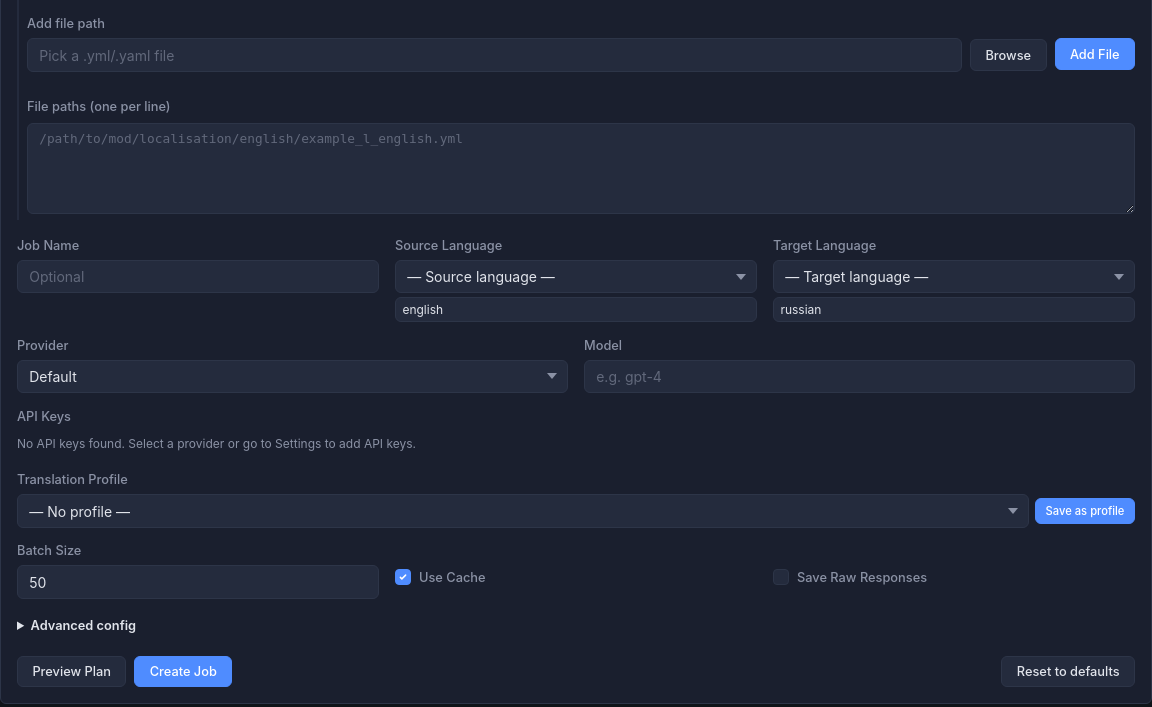
it: CreateJobForm › advanced config section › renders protection rule sets label
(page scrolled)
Click the heading "Advanced config" at (83, 626), box [30,618,136,633]
(page scrolled)
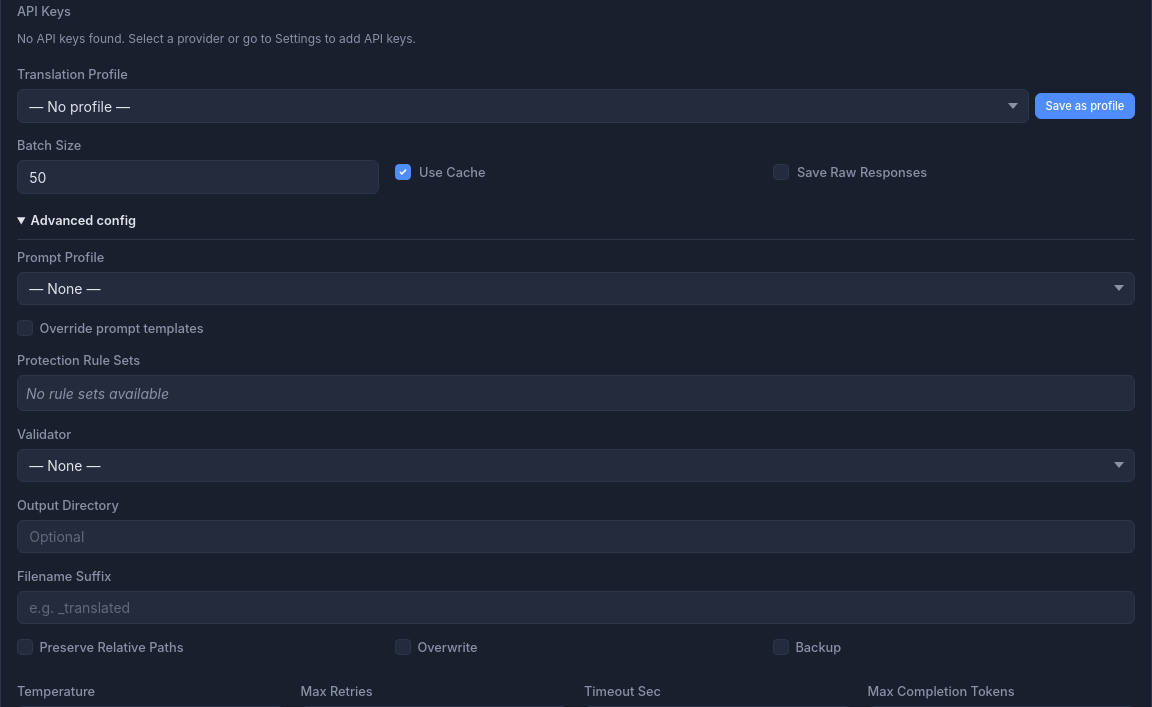
Expected: the text "Protection Rule Sets" is shown, [17,353,140,368]
